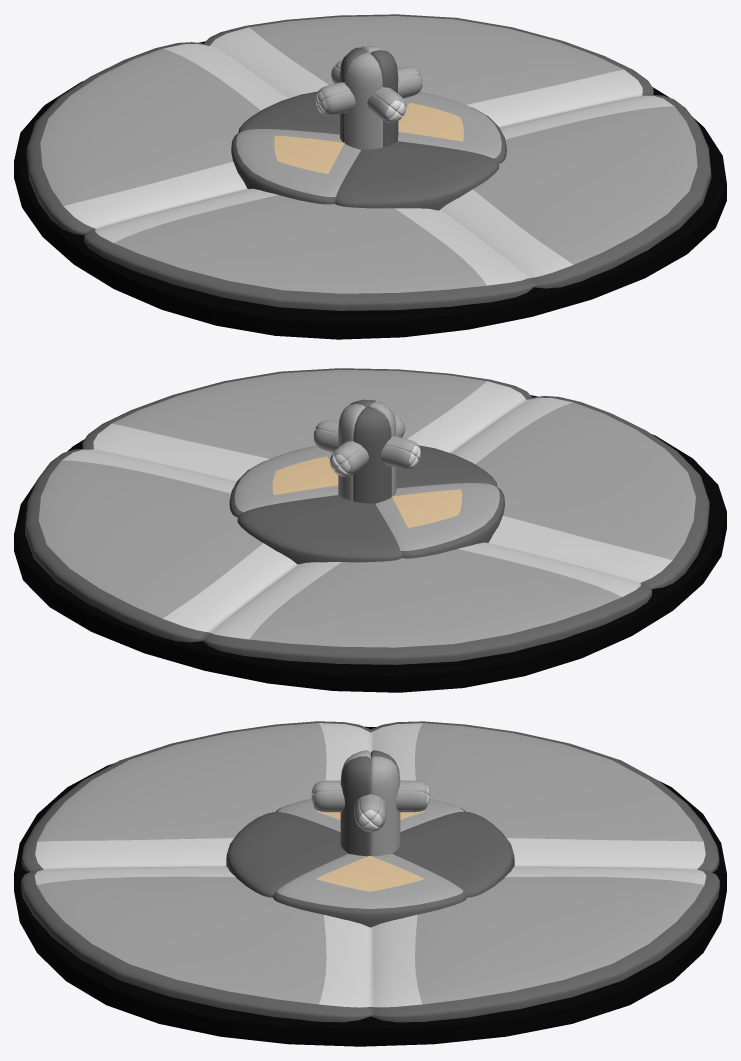
The model's file is RotatingBase.fbx.
The picture shows the model from 3 angles, top to bottom: view 1: azimuth 30°, elevation 25°; view 2: azimuth 150°, elevation 25°; view 3: azimuth 270°, elevation 25°; orthographic projection. The views are drawn at different scales.
Parts seen in each view (by area): view 1: polySurface1, polySurface2, polySurface6, polySurface8, polySurface3, polySurface7, polySurface4; view 2: polySurface1, polySurface2, polySurface6, polySurface8, polySurface3, polySurface5, polySurface4; view 3: polySurface1, polySurface2, polySurface6, polySurface8, polySurface4, polySurface5, polySurface7.
Boxes of the visible parts, x1,y1,x2,y2 form: polySurface1: [26, 14, 711, 310]; polySurface2: [231, 91, 506, 210]; polySurface6: [14, 41, 726, 339]; polySurface8: [340, 46, 398, 150]; polySurface3: [315, 82, 355, 115]; polySurface7: [367, 87, 406, 122]; polySurface4: [397, 66, 422, 98]; polySurface1: [25, 368, 709, 664]; polySurface2: [229, 445, 504, 564]; polySurface6: [14, 395, 726, 692]; polySurface8: [338, 399, 396, 503]; polySurface3: [380, 436, 420, 469]; polySurface5: [330, 441, 368, 476]; polySurface4: [313, 420, 338, 452]; polySurface1: [21, 721, 719, 1022]; polySurface2: [226, 799, 514, 927]; polySurface6: [14, 726, 726, 1046]; polySurface8: [340, 750, 400, 856]; polySurface4: [354, 794, 386, 832]; polySurface5: [395, 780, 429, 812]; polySurface7: [311, 780, 344, 812].
Bounding box in the file's own units: 8.08 × 1.79 × 8.08.
